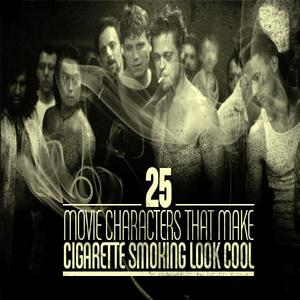cigarette: (155, 76, 164, 86)
